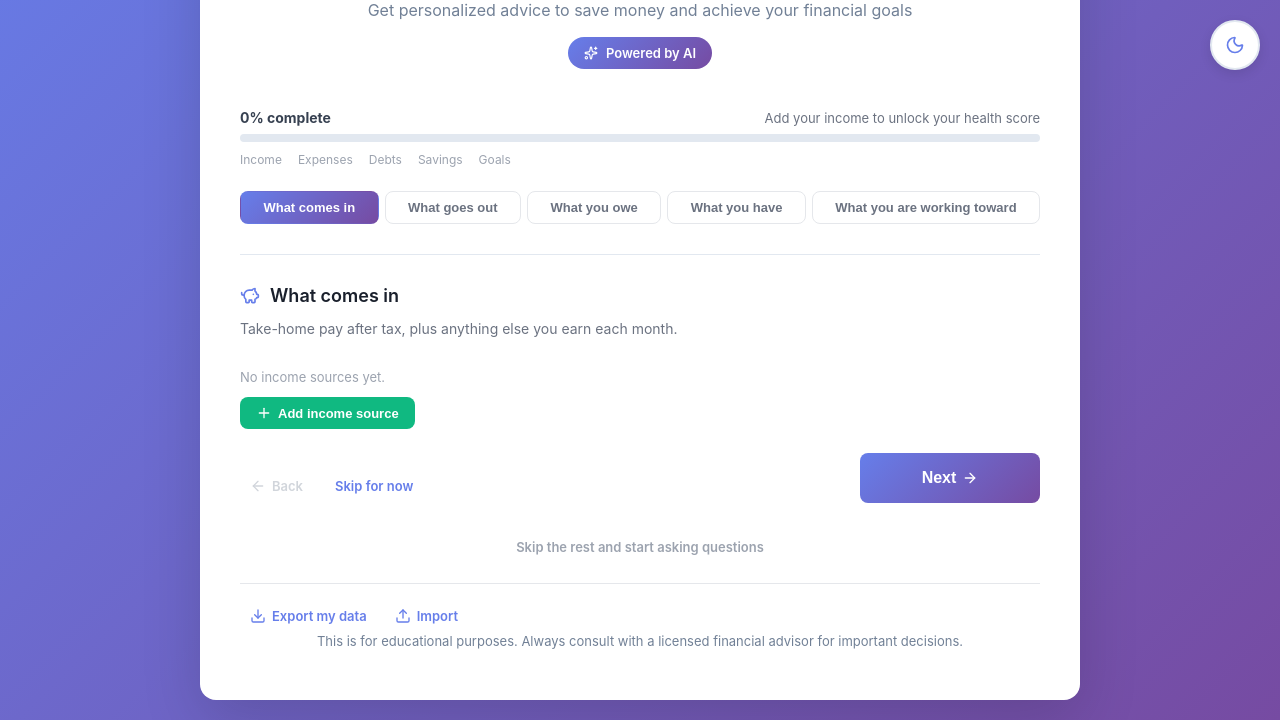
chat › greets the user and offers example questions
The image size is (1280, 720).
(page scrolled)
Click the button "Skip the rest and start asking questions" at [640, 547], box [506,531,774,563]
(page scrolled)
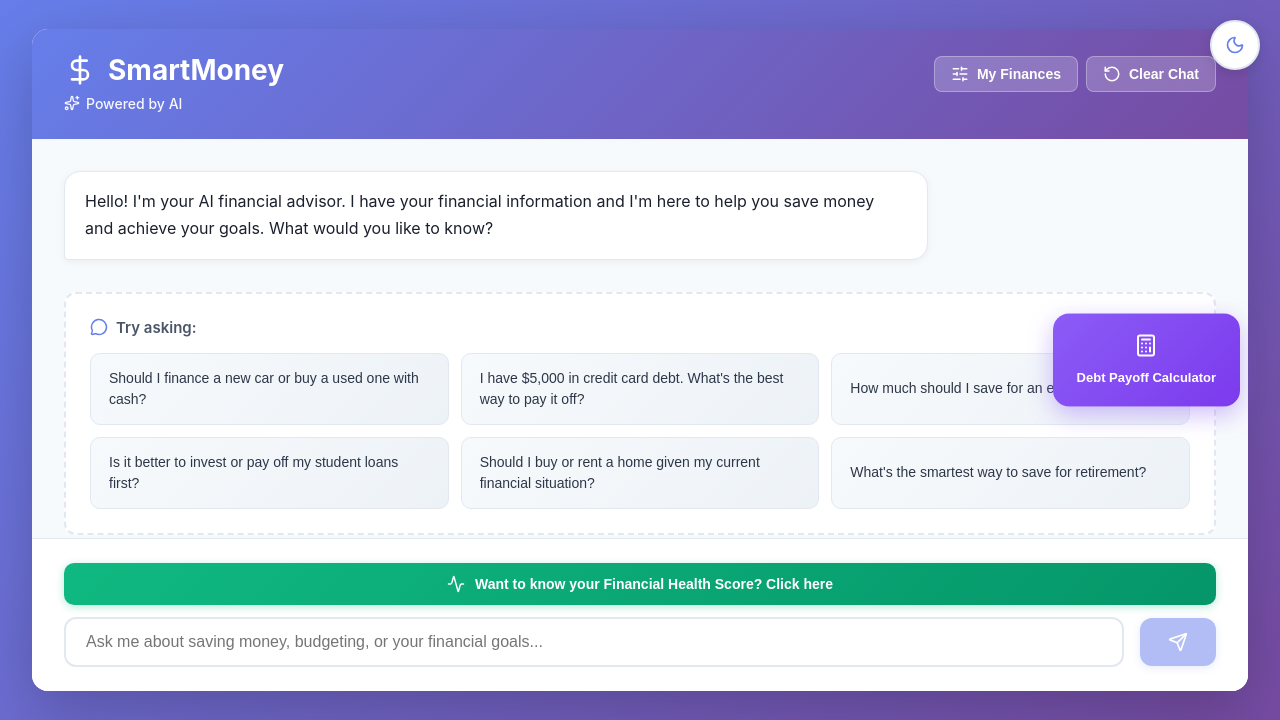
Result: the text "I'm your AI financial advisor" is shown at [85,191,874,238]
Result: the text "Try asking:" is shown at [116,318,196,337]
